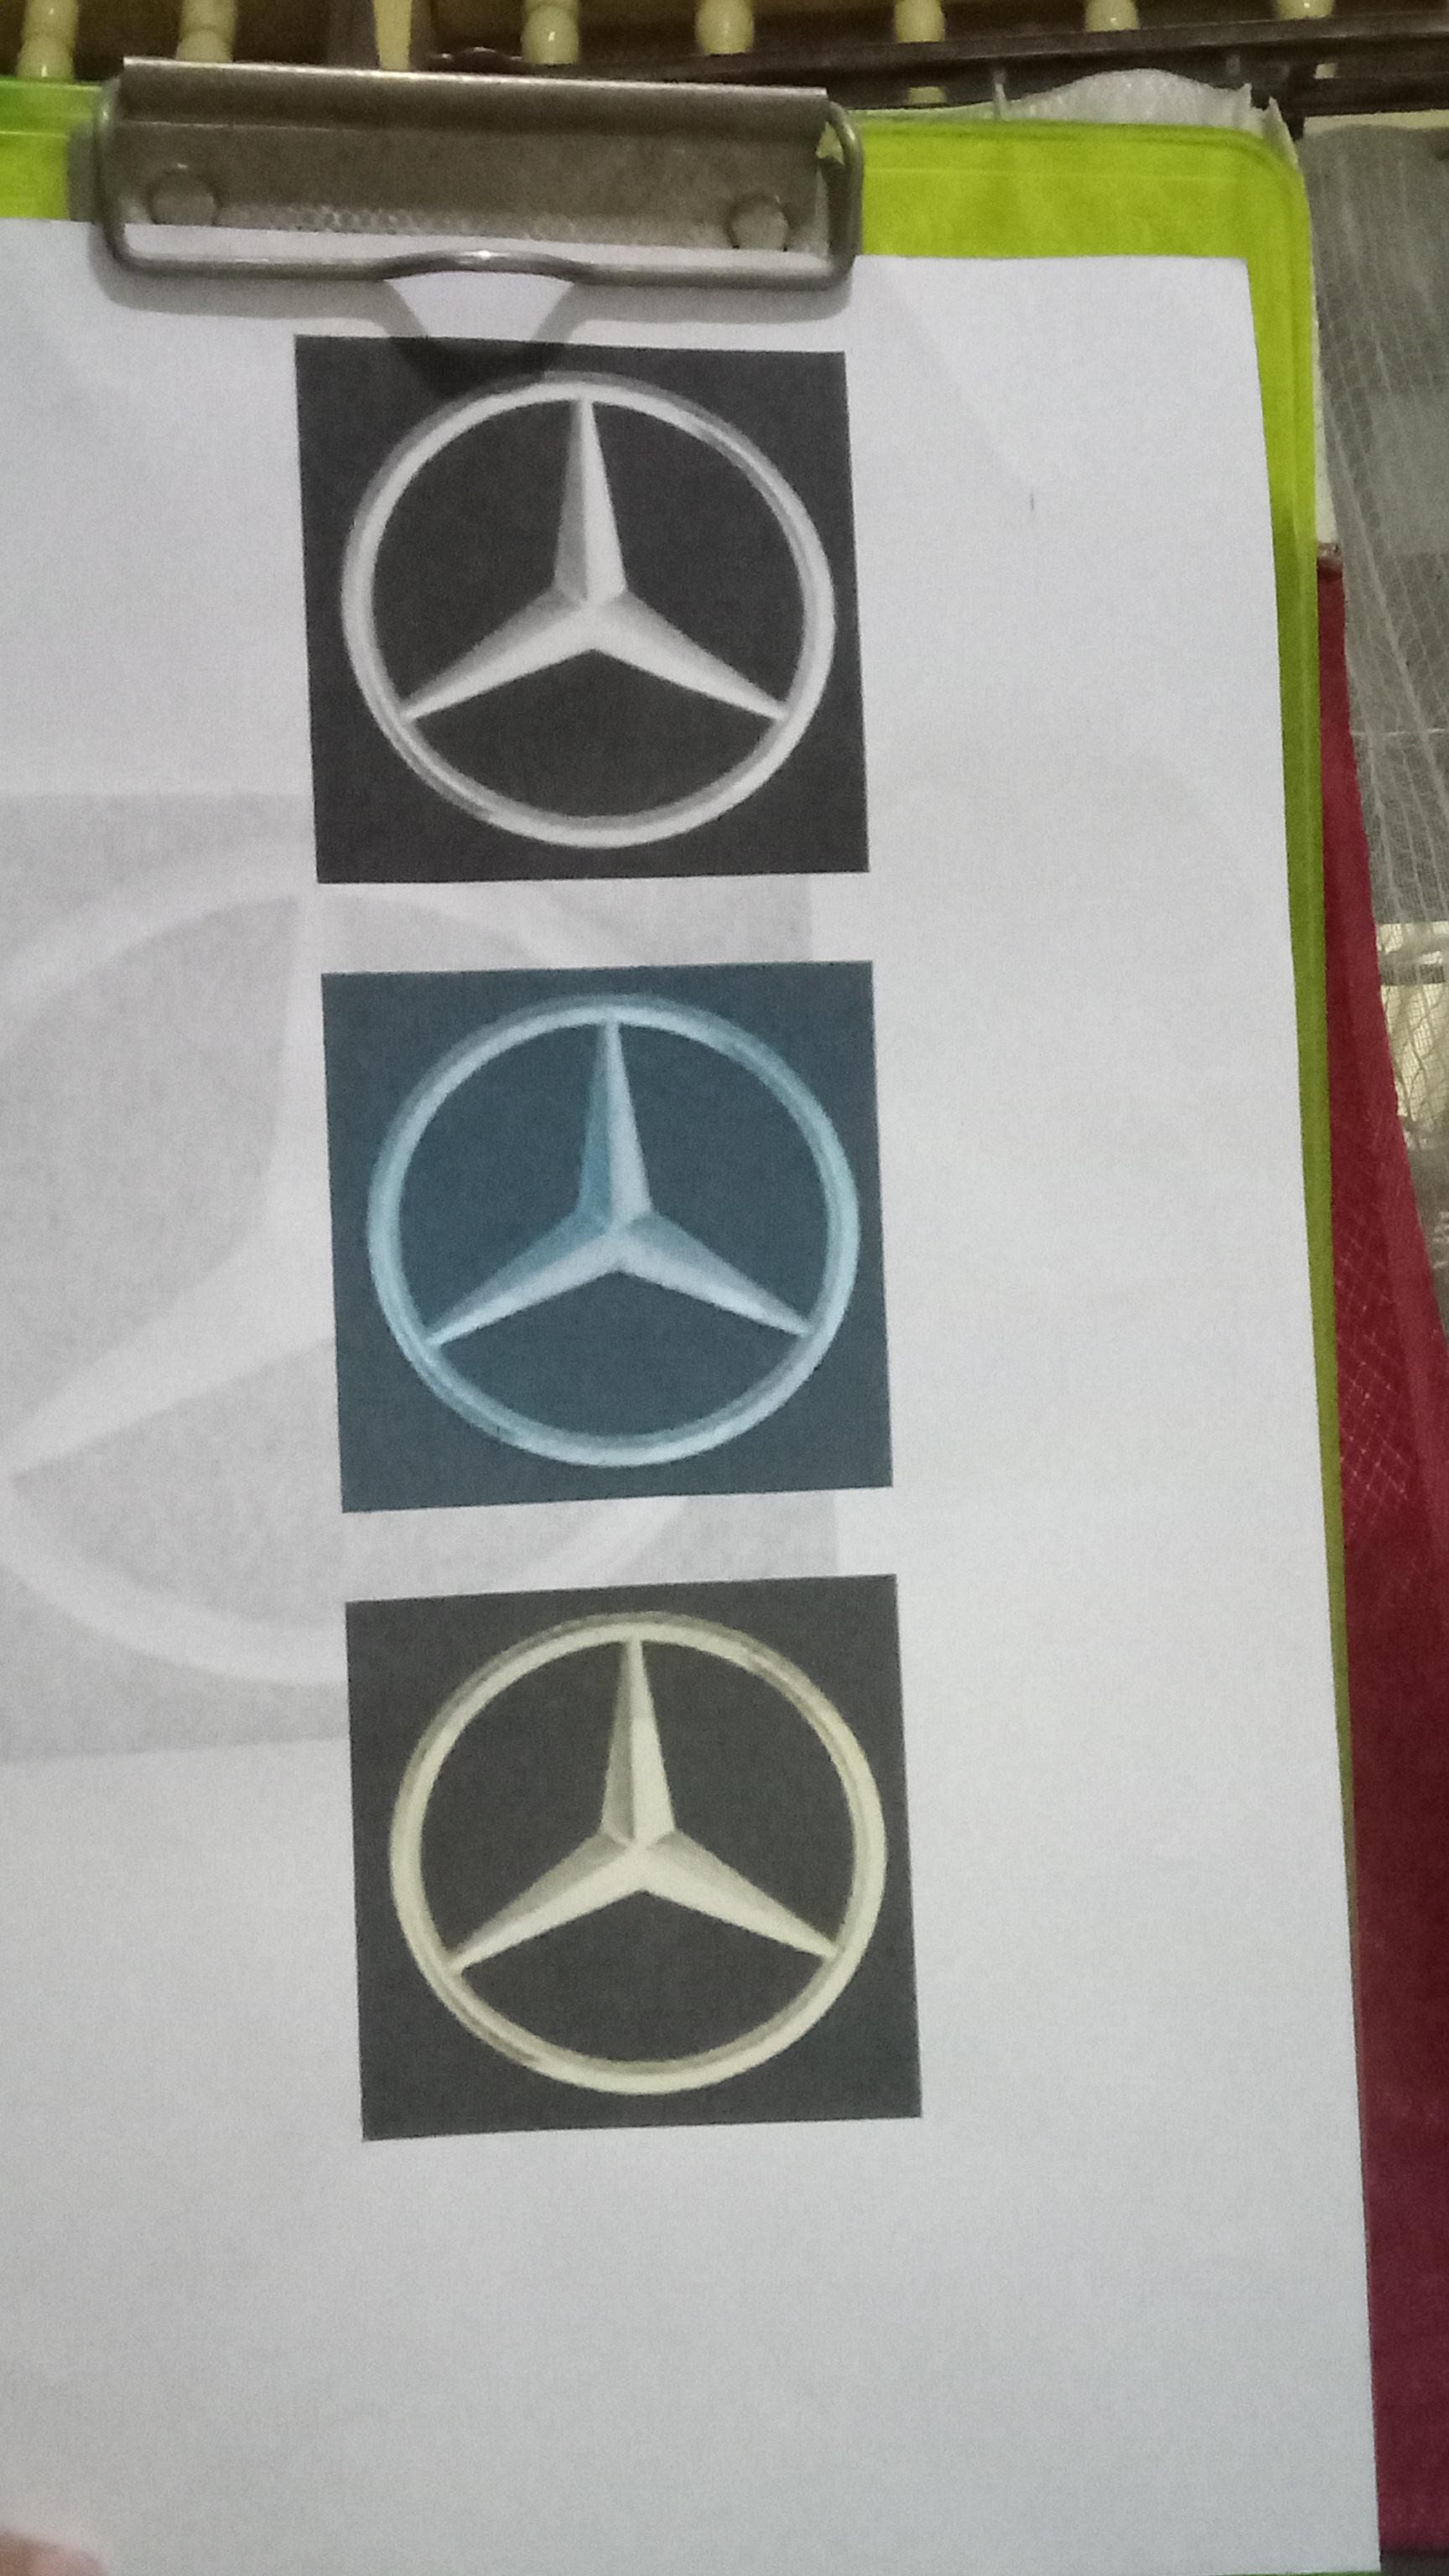Mercedes: (318, 357, 853, 867), (375, 1599, 904, 2109), (343, 980, 863, 1486)
